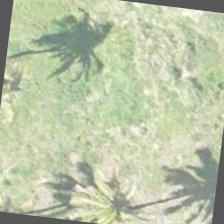Kelapa_Sawit: (76, 150, 176, 223)
